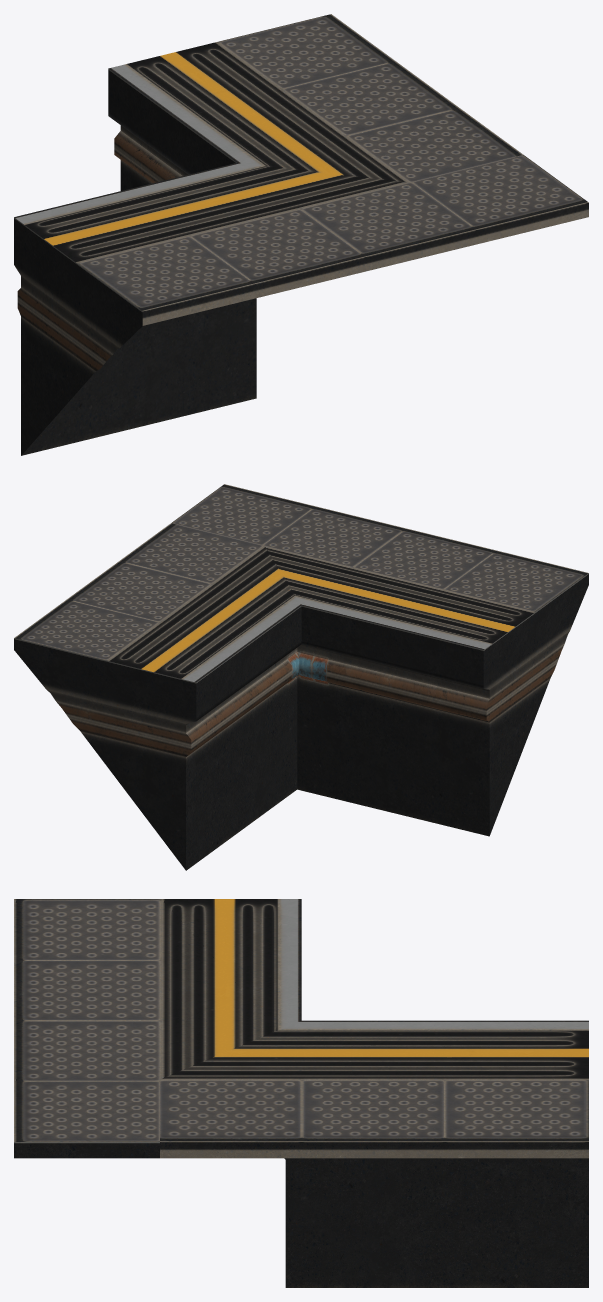
The model's file is SM_FloorBorderCorner.FBX.
3 renders of one model, top to bottom at view 1: azimuth 30°, elevation 25°; view 2: azimuth 150°, elevation 25°; view 3: azimuth 270°, elevation 25°, orthographic. The views are drawn at different scales.
Parts seen in each view (by area): view 1: SM_FloorBorderCorner; view 2: SM_FloorBorderCorner; view 3: SM_FloorBorderCorner.
Boxes of the visible parts, left/top/right/bottom form: SM_FloorBorderCorner: left=14, top=14, right=588, bottom=455; SM_FloorBorderCorner: left=14, top=484, right=588, bottom=870; SM_FloorBorderCorner: left=14, top=899, right=588, bottom=1287.
Size of the model in its own units: 400 by 400 by 200.
